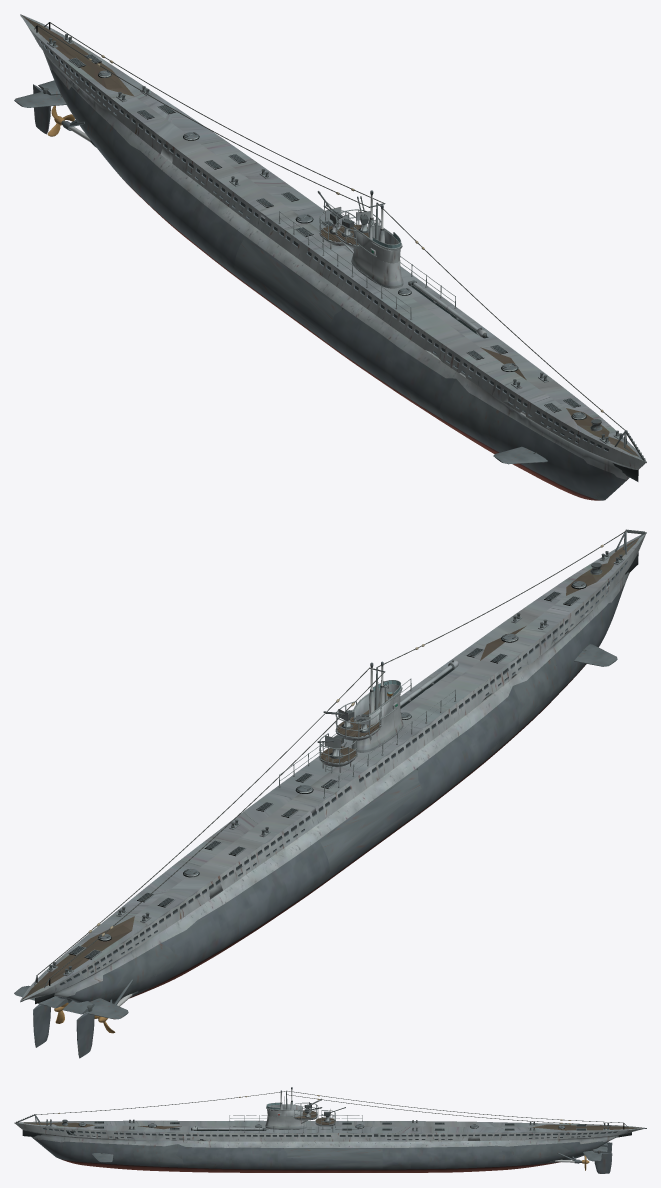
Rendered from uboat-ixc-1944.glb.
The picture shows the model from 3 angles, top to bottom: view 1: azimuth 30°, elevation 25°; view 2: azimuth 150°, elevation 25°; view 3: azimuth 270°, elevation 25°; orthographic projection. The views are drawn at different scales.
Visible parts, largest first — view 1: hull, deck_casing, jumping_wire, Deck hatches and mooring gear, Pressure body under casing, Deck ventilation grilles, conning_tower, bridge, After gun gallery, Deck guardrails; view 2: hull, deck_casing, jumping_wire, Deck hatches and mooring gear, After gun gallery, Deck ventilation grilles, Pressure body under casing, rudders, bridge, conning_tower, Deck guardrails; view 3: hull, deck_casing, Pressure body under casing, jumping_wire, After gun gallery, conning_tower, Deck hatches and mooring gear, bridge, Deck ventilation grilles, Deck guardrails, rudders, schnorchel (+2 smaller).
Boxes of the visible parts, x1=… form: hull: x1=39, y1=46, x2=637, y2=500; deck_casing: x1=20, y1=14, x2=646, y2=469; jumping_wire: x1=34, y1=22, x2=625, y2=430; Deck hatches and mooring gear: x1=47, y1=34, x2=623, y2=444; Pressure body under casing: x1=41, y1=42, x2=638, y2=481; Deck ventilation grilles: x1=68, y1=54, x2=580, y2=412; conning_tower: x1=351, y1=247, x2=403, y2=288; bridge: x1=352, y1=222, x2=402, y2=263; After gun gallery: x1=319, y1=209, x2=381, y2=253; Deck guardrails: x1=278, y1=201, x2=456, y2=319; hull: x1=54, y1=554, x2=637, y2=1003; deck_casing: x1=20, y1=532, x2=646, y2=1002; jumping_wire: x1=34, y1=531, x2=625, y2=987; Deck hatches and mooring gear: x1=47, y1=551, x2=624, y2=976; After gun gallery: x1=319, y1=701, x2=381, y2=772; Deck ventilation grilles: x1=68, y1=591, x2=580, y2=959; Pressure body under casing: x1=35, y1=552, x2=638, y2=1004; rudders: x1=33, y1=1004, x2=94, y2=1058; bridge: x1=352, y1=680, x2=402, y2=725; conning_tower: x1=351, y1=703, x2=403, y2=752; Deck guardrails: x1=278, y1=678, x2=456, y2=798; hull: x1=23, y1=1130, x2=621, y2=1172; deck_casing: x1=14, y1=1120, x2=646, y2=1141; Pressure body under casing: x1=22, y1=1128, x2=631, y2=1139; jumping_wire: x1=35, y1=1091, x2=627, y2=1129; After gun gallery: x1=294, y1=1102, x2=335, y2=1129; conning_tower: x1=265, y1=1116, x2=306, y2=1129; Deck hatches and mooring gear: x1=45, y1=1119, x2=609, y2=1131; bridge: x1=266, y1=1102, x2=303, y2=1117; Deck ventilation grilles: x1=94, y1=1121, x2=586, y2=1130; Deck guardrails: x1=229, y1=1115, x2=362, y2=1132; rudders: x1=594, y1=1142, x2=612, y2=1173; schnorchel: x1=191, y1=1126, x2=266, y2=1130.
Bounding box in the file's own units: 8.14 × 11.07 × 76.8.
Materials: 22 (22 with a texture image).
